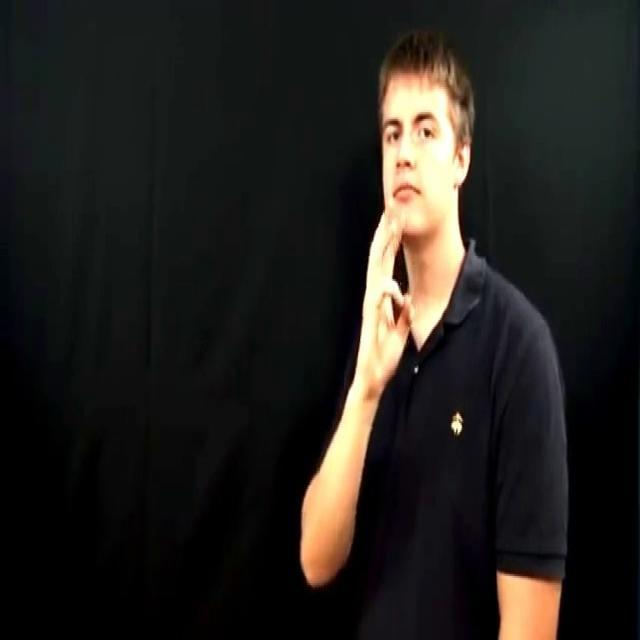water: (351, 198, 419, 390)
